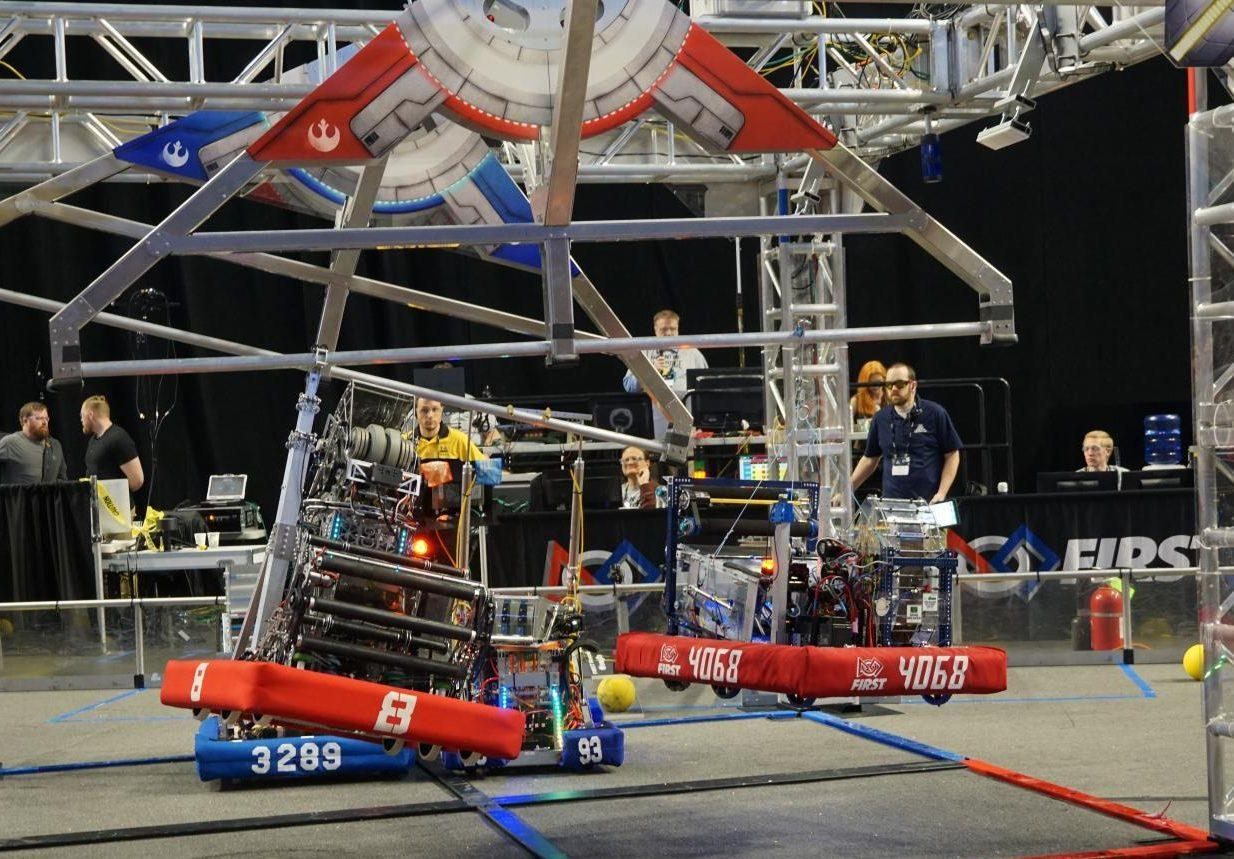robot: (614, 329, 1018, 714), (161, 354, 530, 771), (419, 404, 635, 793), (190, 544, 425, 785)
